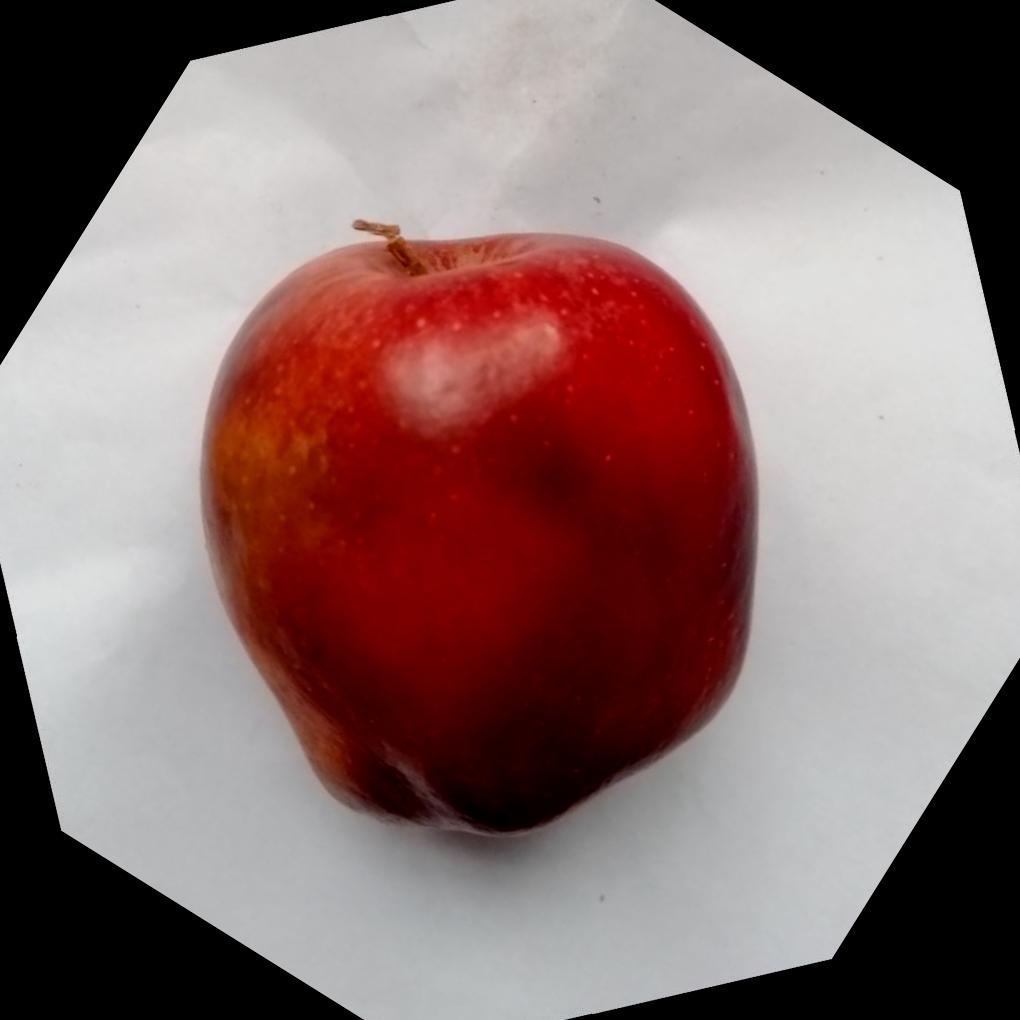FreshOrange: (198, 224, 761, 839)
